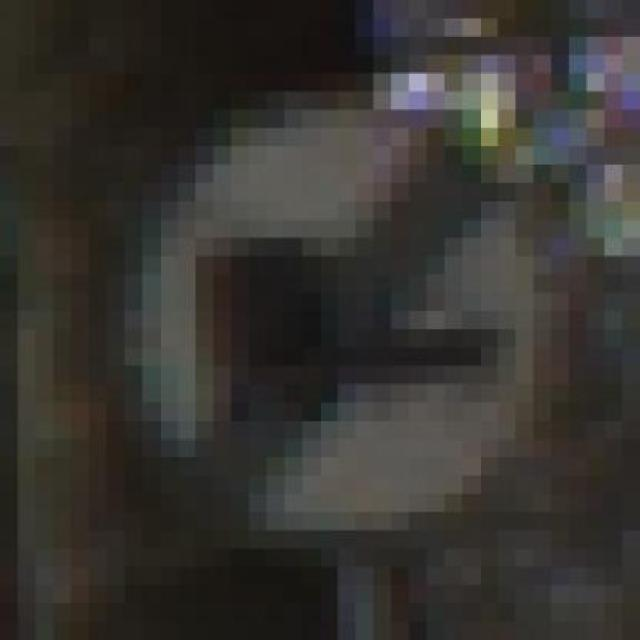Overtaking by trucks is prohibited: (106, 73, 569, 585)
